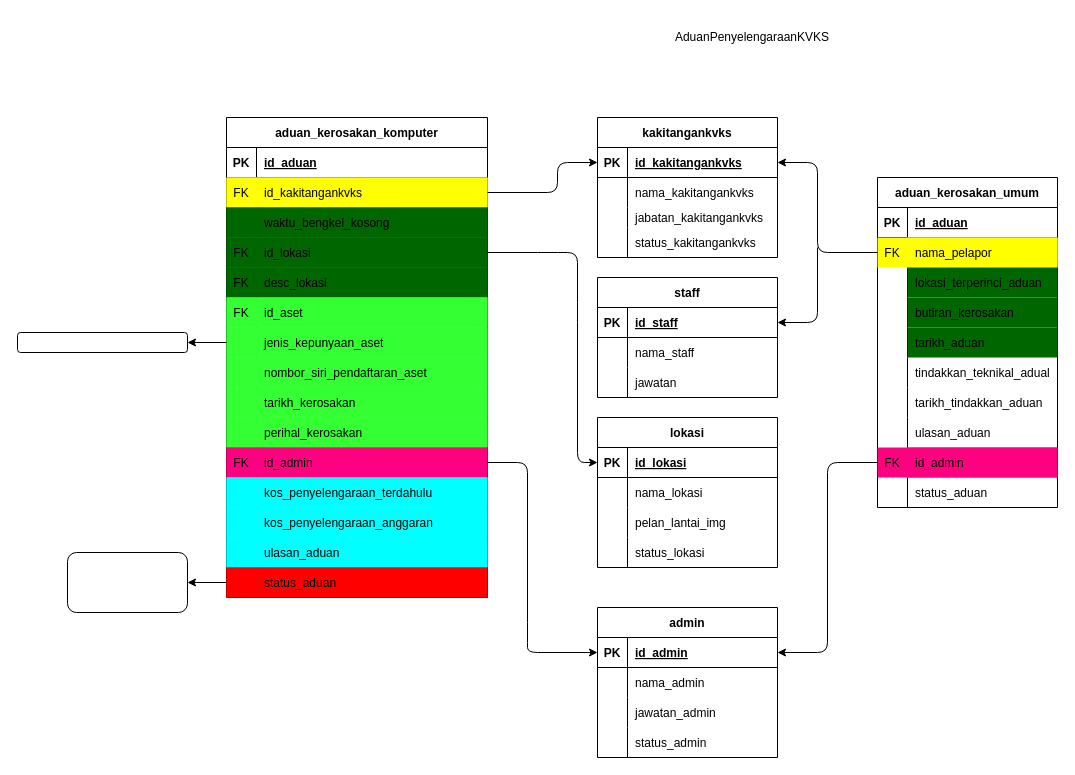
Some shapes in this 1075 by 775 pixel diagram are drawn without their labels. The centre of each missing label's shape, as x and y in pixels:
"1 = user dah isi 2 = pegawai dah isi 3 = siap diselengara" belongs at (127,582).
"Persendirian / Sumbangan" belongs at (102,342).
